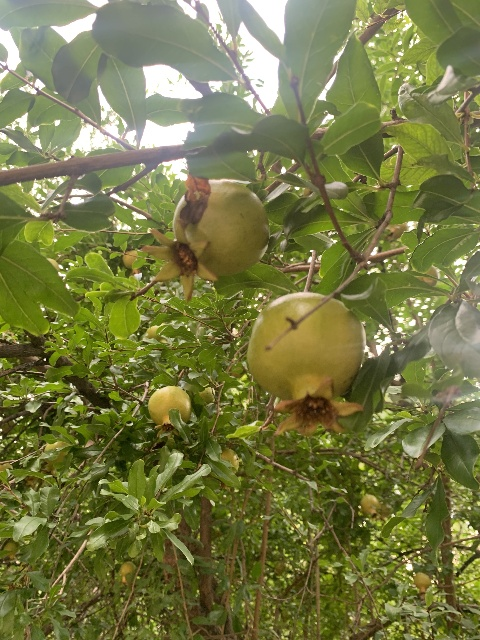mid-growth: (246, 292, 365, 437), (141, 180, 270, 303), (147, 386, 192, 439), (216, 447, 239, 493), (360, 493, 381, 518), (122, 249, 140, 275), (117, 561, 136, 585), (146, 322, 167, 343), (413, 572, 430, 594)
